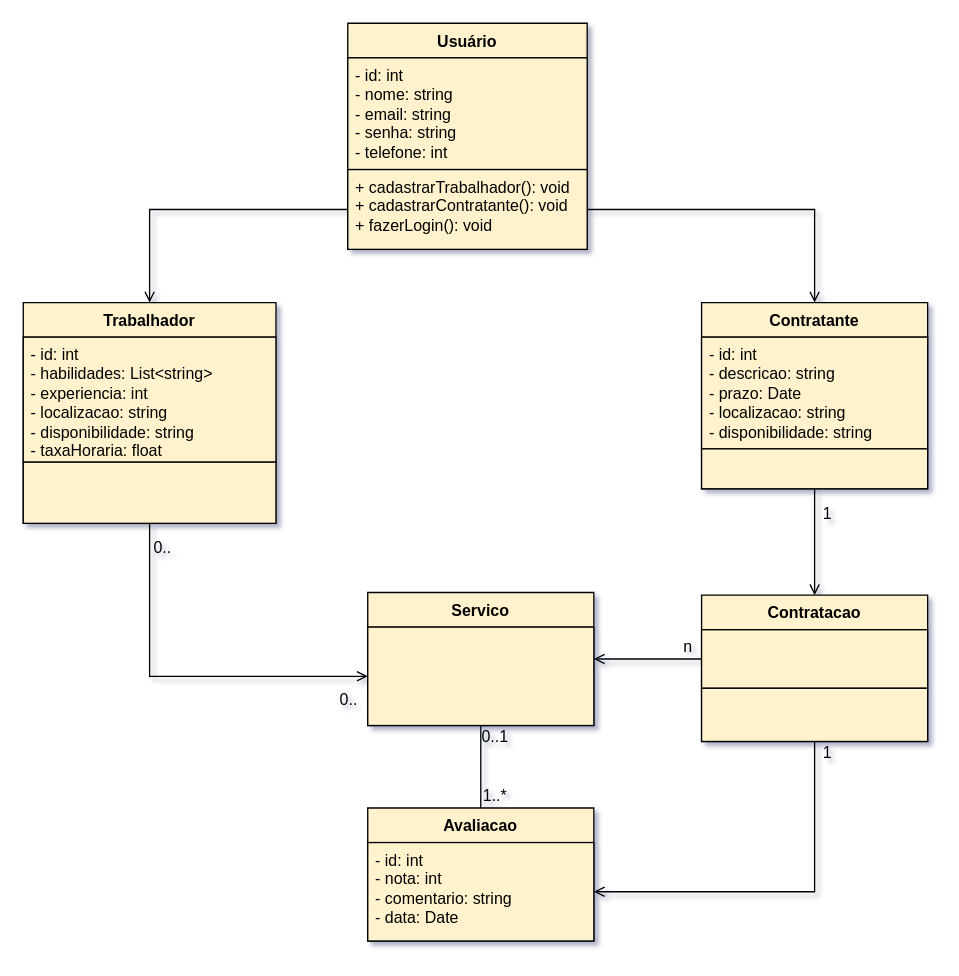
The diagram is 959 pixels wide and 976 high, and some of its shapes have lost their labels. Each missing label, with the centre of its shape:
"+ buscarServicos(): List<Servico> + enviarProposta(): void" belongs at (x=149, y=492).
"+ cadastrarServico(): void" belongs at (x=814, y=468).
"+ contratarServico(): void + avaliarServico(): void" belongs at (x=814, y=714).
"- id: int - data: Date" belongs at (x=814, y=658).
"- id: int - descricao: string - categoria: string - preco: float" belongs at (x=480, y=676).
